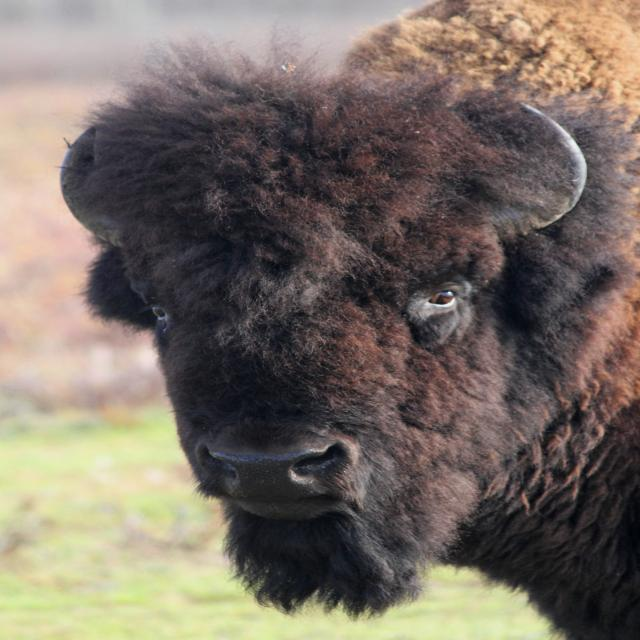Bison: (68, 3, 640, 640)
